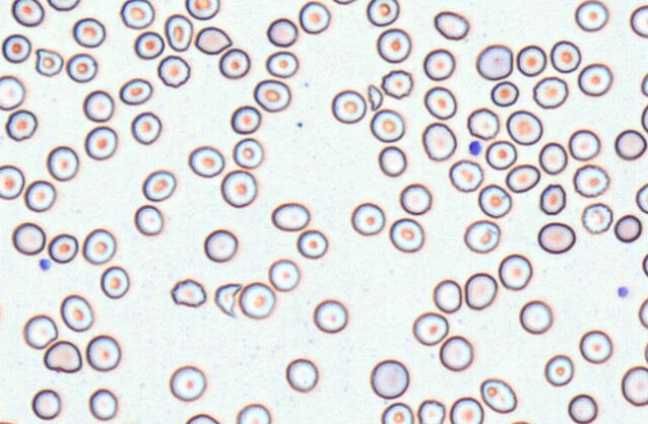PLT: (467, 139, 484, 157), (38, 257, 53, 273), (615, 285, 630, 300)
RBC: (369, 358, 409, 399), (238, 281, 275, 319), (475, 43, 513, 80), (220, 169, 257, 207), (421, 121, 456, 161), (479, 377, 517, 413), (169, 365, 206, 401), (85, 334, 121, 371), (506, 109, 542, 145), (438, 334, 473, 371), (463, 272, 497, 310), (572, 163, 610, 197), (59, 294, 93, 332), (253, 78, 291, 112), (22, 314, 58, 349), (412, 311, 448, 346), (312, 298, 348, 333), (388, 217, 424, 252), (376, 27, 411, 63), (463, 219, 500, 253), (498, 253, 532, 290), (537, 221, 575, 254), (369, 108, 405, 142), (82, 228, 116, 264), (187, 145, 224, 178), (518, 299, 552, 334), (477, 183, 511, 218), (577, 62, 612, 96), (331, 89, 366, 123), (532, 76, 568, 109), (46, 145, 79, 181), (271, 201, 310, 231), (11, 221, 45, 255), (203, 228, 237, 262), (423, 85, 457, 119), (285, 357, 318, 392), (350, 202, 385, 235), (84, 125, 117, 160), (448, 159, 483, 192), (579, 329, 612, 363), (621, 365, 648, 406), (164, 13, 193, 51), (157, 54, 190, 87), (422, 48, 455, 81), (399, 182, 432, 215), (466, 107, 499, 140), (142, 169, 176, 201), (298, 0, 330, 34), (574, 0, 608, 32), (549, 39, 581, 73), (130, 111, 162, 145), (433, 10, 469, 40), (5, 108, 37, 141), (24, 179, 56, 212), (268, 258, 300, 291), (82, 89, 114, 122), (505, 163, 540, 193), (432, 278, 462, 313), (170, 278, 206, 307), (218, 47, 250, 79), (614, 128, 646, 160), (581, 202, 613, 234), (568, 128, 600, 160), (99, 265, 129, 299), (119, 0, 154, 29), (296, 228, 328, 259), (485, 139, 517, 170), (232, 137, 263, 169), (380, 69, 413, 99), (72, 17, 105, 47), (88, 388, 118, 420), (544, 354, 574, 386), (377, 145, 407, 177), (65, 52, 97, 82), (266, 17, 298, 47), (516, 44, 546, 76), (133, 204, 163, 236), (538, 141, 567, 174), (449, 396, 483, 424), (47, 233, 78, 263), (31, 388, 61, 419), (567, 393, 598, 423), (230, 104, 261, 134), (119, 77, 152, 105), (265, 50, 298, 78), (0, 164, 25, 200), (1, 33, 31, 63), (0, 74, 25, 110), (133, 30, 164, 59), (539, 183, 566, 215), (11, 0, 44, 26), (366, 0, 399, 26), (614, 214, 642, 243), (490, 80, 519, 107), (380, 401, 414, 424), (235, 403, 271, 424), (417, 399, 445, 424), (185, 0, 219, 20), (629, 4, 647, 38), (635, 182, 648, 214), (183, 413, 220, 424), (47, 0, 80, 11), (638, 296, 648, 329), (641, 102, 648, 133), (640, 71, 648, 97), (642, 251, 648, 278), (643, 338, 648, 366), (0, 297, 4, 330), (331, 0, 357, 5), (504, 420, 534, 424), (0, 420, 17, 424)
Schistocyte: (43, 341, 83, 374), (194, 25, 234, 55), (214, 280, 242, 319), (33, 47, 64, 77), (365, 82, 384, 111)
